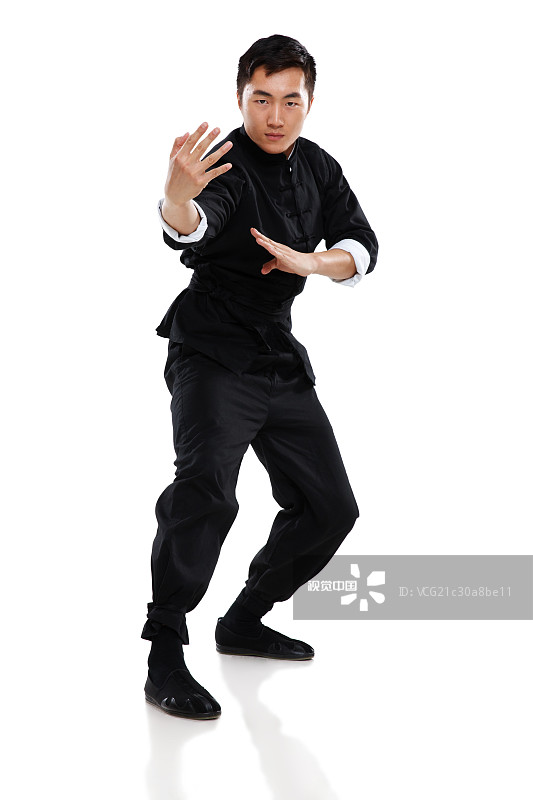no-phone: (145, 108, 238, 229), (250, 222, 338, 292)
